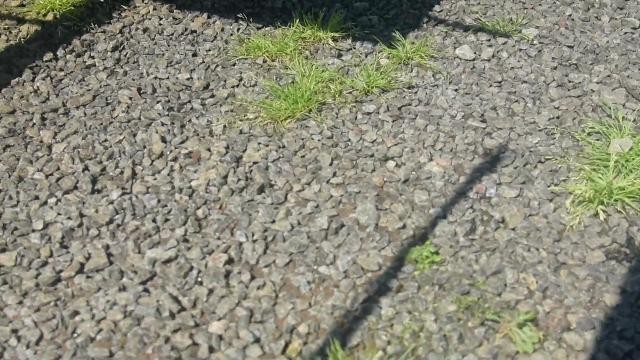MalezaMontesDelPlata: (548, 104, 640, 218), (228, 0, 358, 71), (245, 59, 340, 135), (451, 290, 548, 351), (0, 0, 136, 40), (387, 26, 447, 73), (347, 46, 398, 98), (465, 9, 538, 45), (399, 236, 443, 274)
